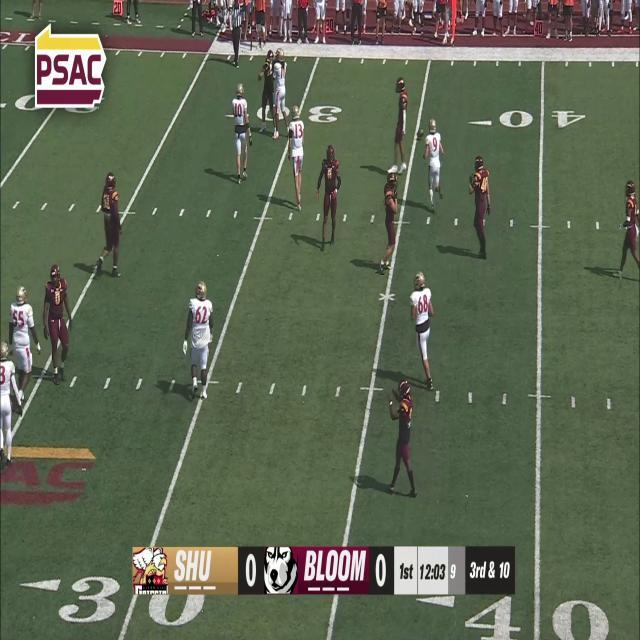football: (416, 128, 424, 138)
